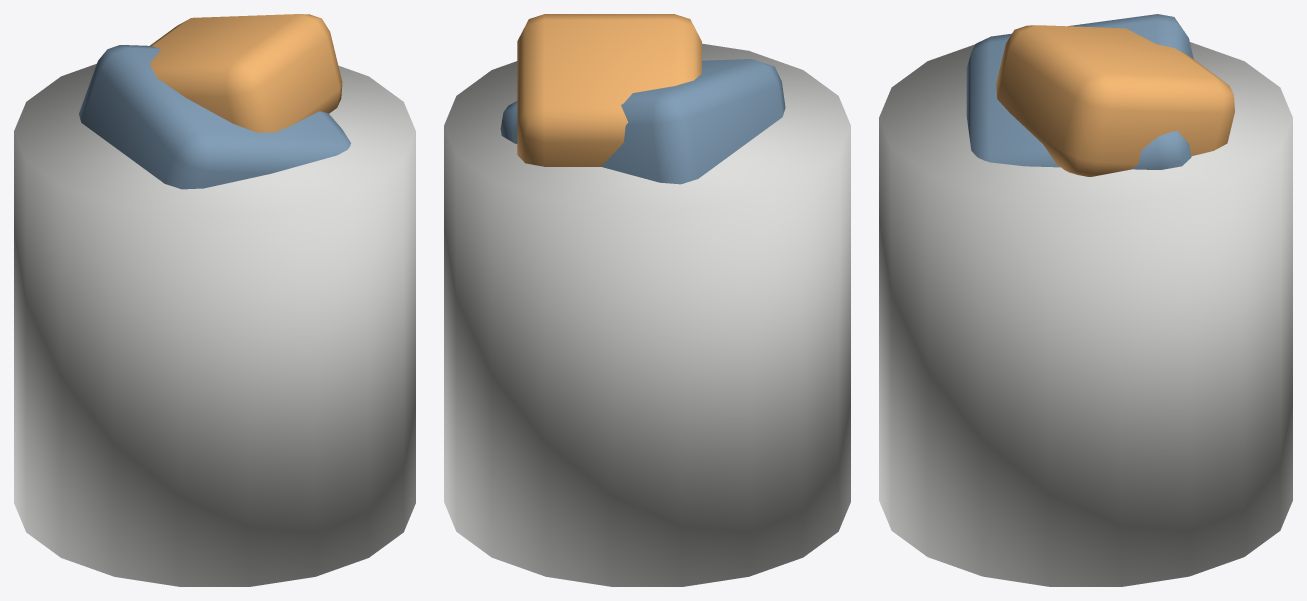
Rendered from Indo_Laundry_Basket.fbx.
3 renders of one model, left to right at view 1: azimuth 30°, elevation 25°; view 2: azimuth 150°, elevation 25°; view 3: azimuth 270°, elevation 25°, orthographic. The views are drawn at different scales.
Parts seen in each view (by area): view 1: Indo_Laundry_Basket; view 2: Indo_Laundry_Basket; view 3: Indo_Laundry_Basket.
Boxes of the visible parts, left/top/right/bottom form: Indo_Laundry_Basket: left=14, top=14, right=415, bottom=586; Indo_Laundry_Basket: left=444, top=14, right=850, bottom=586; Indo_Laundry_Basket: left=879, top=14, right=1292, bottom=586.
Size of the model in its own units: 43.33 by 55.61 by 44.
